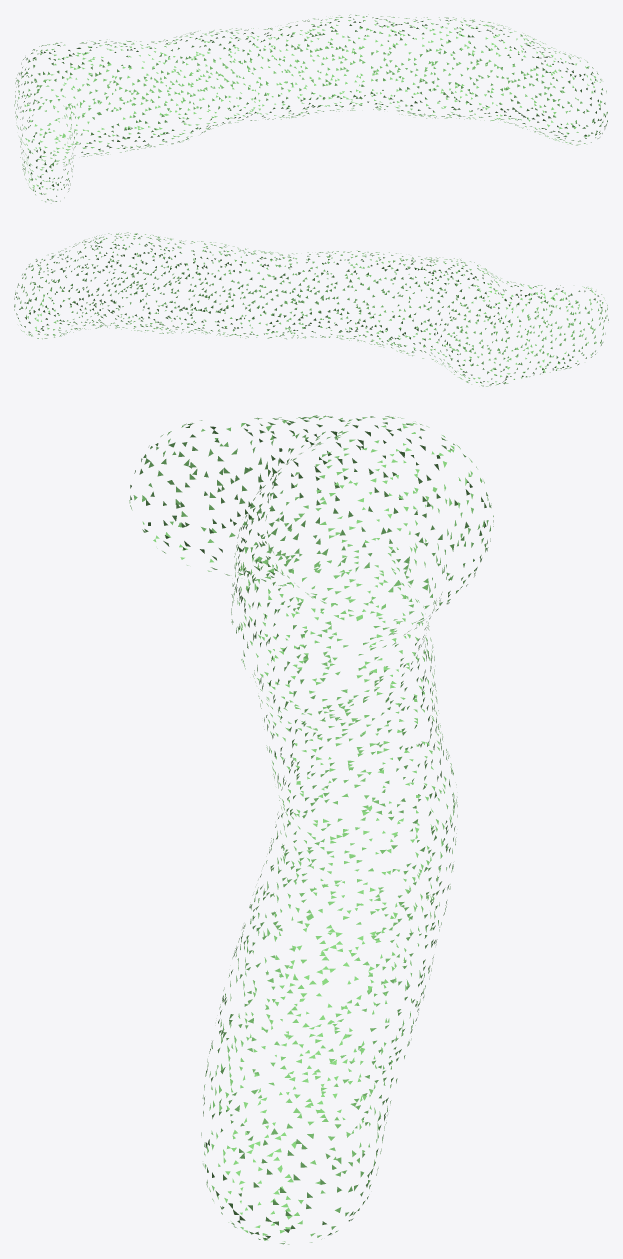
File: morph_016.glb
3 renders of one model, top to bottom at view 1: azimuth 30°, elevation 25°; view 2: azimuth 150°, elevation 25°; view 3: azimuth 270°, elevation 25°, orthographic. The views are drawn at different scales.
Size of the model in its own units: 137 by 44.07 by 39.31.
